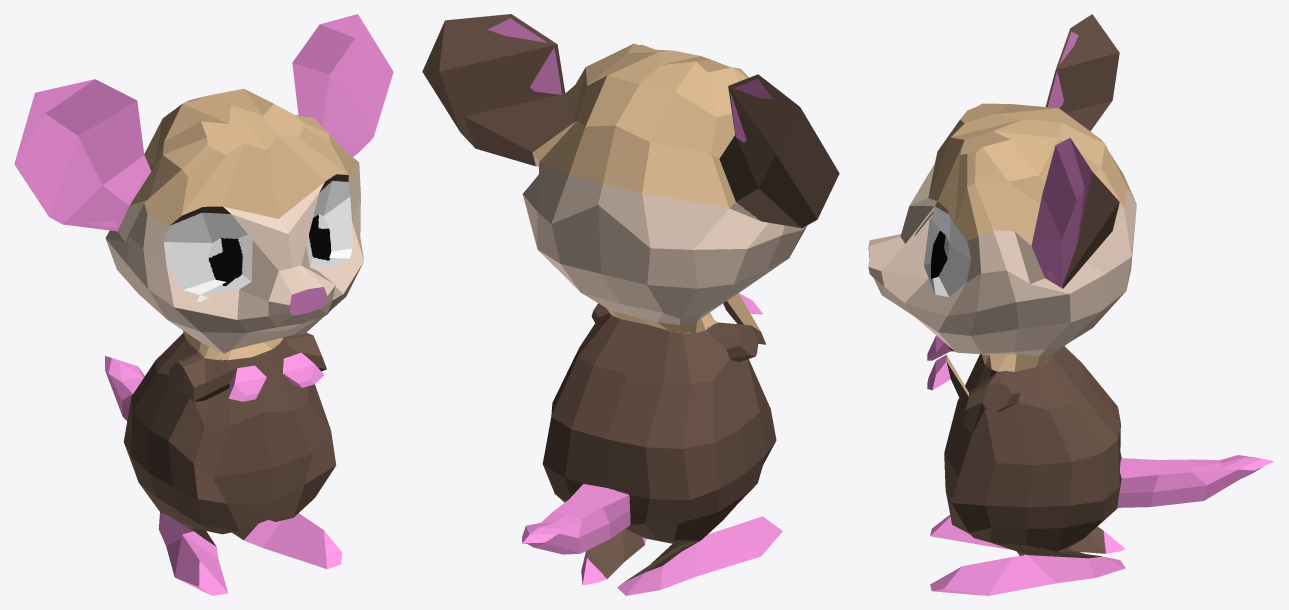
Rendered from cria.obj.
3 views of the same model, side by side, from view 1: azimuth 30°, elevation 25°; view 2: azimuth 150°, elevation 25°; view 3: azimuth 270°, elevation 25° (orthographic). The views are drawn at different scales.
Parts seen in each view (by area): view 1: cria_Cube.065; view 2: cria_Cube.065; view 3: cria_Cube.065.
Boxes of the visible parts, box(x1,y1,x2,y2) form: cria_Cube.065: box(14, 14, 393, 595); cria_Cube.065: box(422, 14, 839, 595); cria_Cube.065: box(868, 14, 1273, 595).
Size of the model in its own units: 8.57 by 10.32 by 7.96.
1 material, 1 textured.
